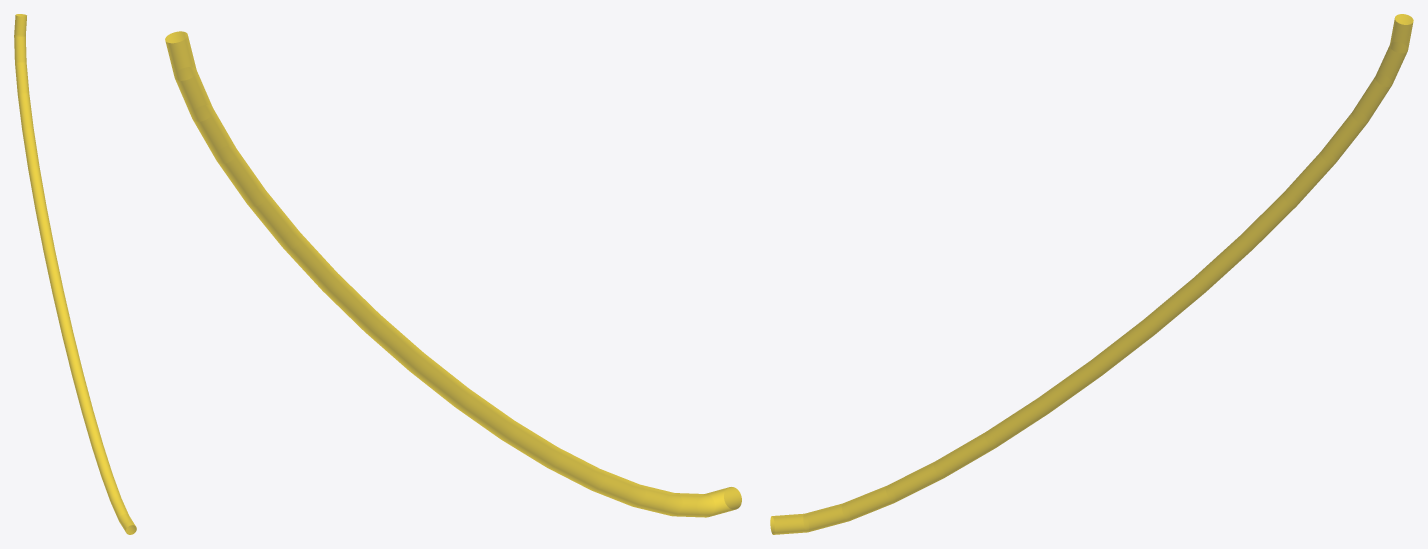
Rendered from Event_27938768_track_14.fbx.
3 renders of one model, left to right at view 1: azimuth 30°, elevation 25°; view 2: azimuth 150°, elevation 25°; view 3: azimuth 270°, elevation 25°, orthographic. The views are drawn at different scales.
Visible parts, largest first — view 1: Model; view 2: Model; view 3: Model.
Boxes of the visible parts, bbox=[...] form: Model: bbox=[14, 14, 136, 534]; Model: bbox=[165, 31, 741, 517]; Model: bbox=[770, 14, 1413, 534].
Size of the model in its own units: 0.3709 by 1.35 by 1.35.
